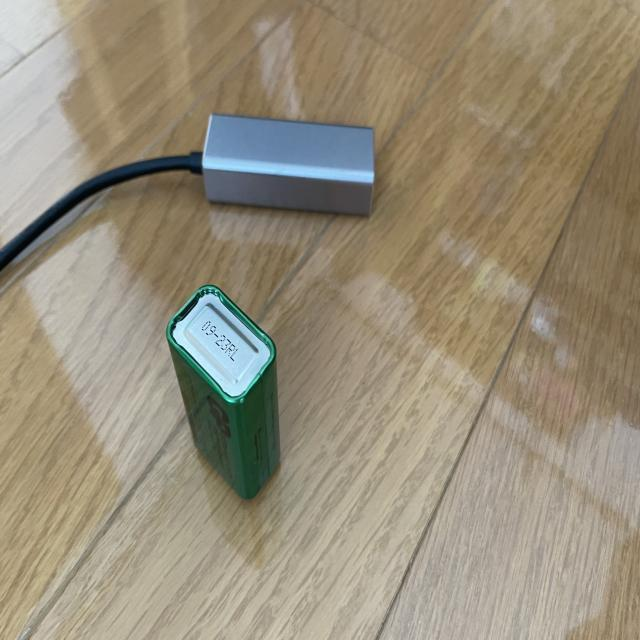9V: (167, 284, 282, 499)
